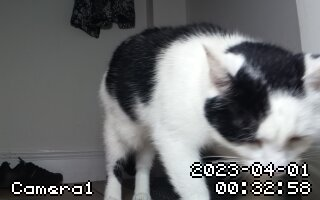bad: (100, 26, 320, 193)
